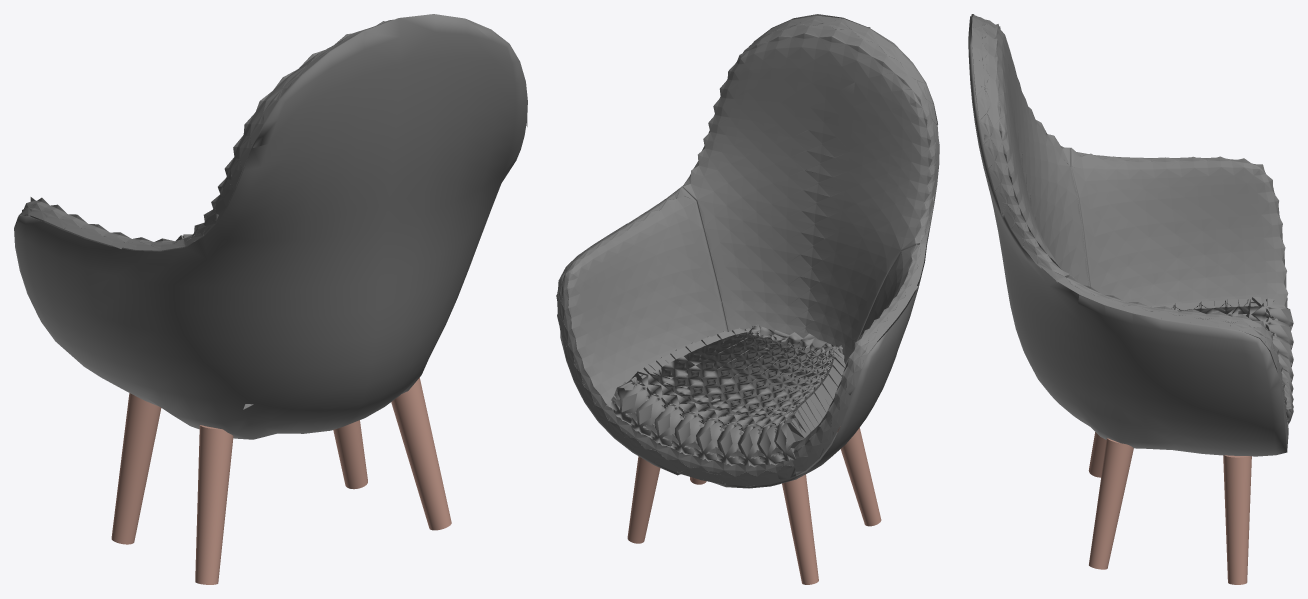
Rendered from chair.FBX.
3 views of the same model, side by side, from view 1: azimuth 30°, elevation 25°; view 2: azimuth 150°, elevation 25°; view 3: azimuth 270°, elevation 25° (orthographic). The views are drawn at different scales.
Parts seen in each view (by area): view 1: Group002, Group001, Cone004, Cone002, Cone003, Cone001; view 2: Group001, Group002, Cone002, Cone004, Cone001; view 3: Group001, Group002, Cone001, Cone003, Cone004.
Part boxes in pixels (x1,y1,x2,y2): Group002: (14,14,527,439); Group001: (19,19,527,409); Cone004: (195,425,233,584); Cone002: (111,393,161,544); Cone003: (391,377,451,530); Cone001: (333,420,367,489); Group001: (557,15,939,486); Group002: (556,14,939,488); Cone002: (782,474,818,584); Cone004: (837,426,881,526); Cone001: (627,456,660,543); Group001: (972,15,1293,448); Group002: (968,14,1287,456); Cone001: (1223,455,1251,584); Cone003: (1089,438,1133,569); Cone004: (1088,432,1106,477).
Bounding box in the file's own units: 652 × 906 × 525.
